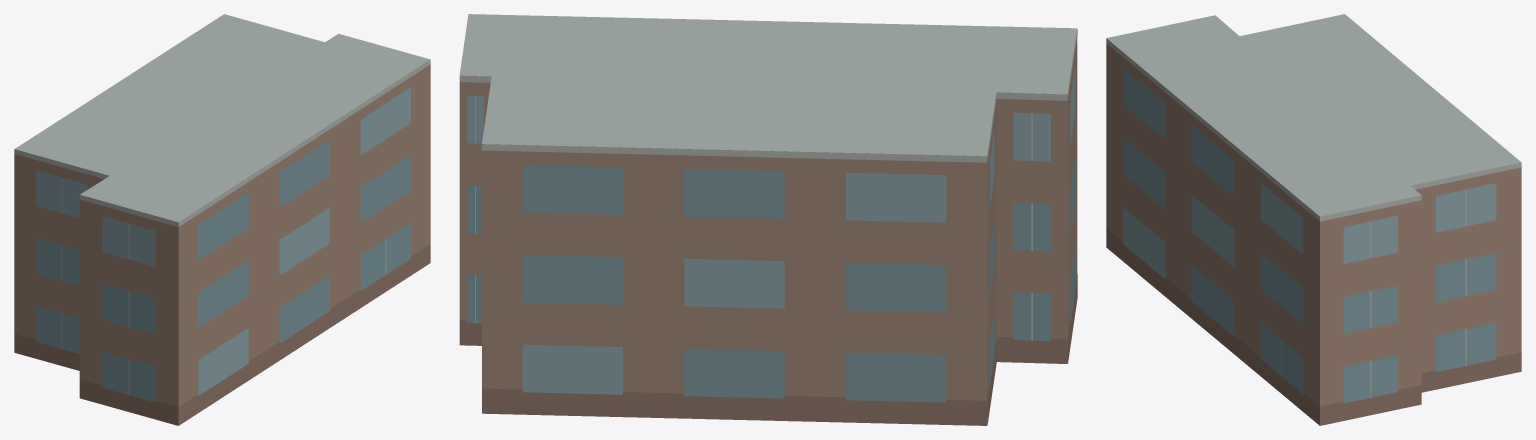
The model's file is survey-upis-32838475.glb.
3 renders of one model, left to right at view 1: azimuth 30°, elevation 25°; view 2: azimuth 150°, elevation 25°; view 3: azimuth 270°, elevation 25°, orthographic. The views are drawn at different scales.
Parts seen in each view (by area): view 1: survey-upis-32838475.tmp; view 2: survey-upis-32838475.tmp; view 3: survey-upis-32838475.tmp.
Boxes of the visible parts, <box> form: survey-upis-32838475.tmp: <box>14,14,430,425</box>; survey-upis-32838475.tmp: <box>459,14,1077,425</box>; survey-upis-32838475.tmp: <box>1106,14,1521,425</box>.
Bounding box in the file's own units: 21.19 × 10.2 × 18.36.
